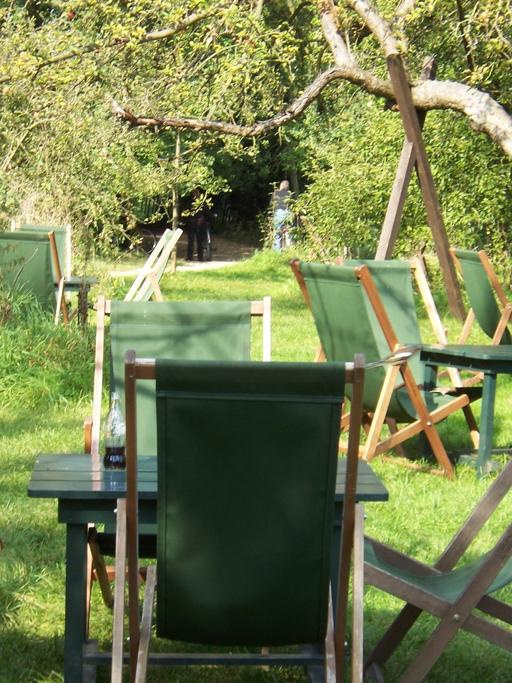non-vehicle: (119, 219, 158, 255), (203, 212, 219, 261), (288, 202, 302, 242)
